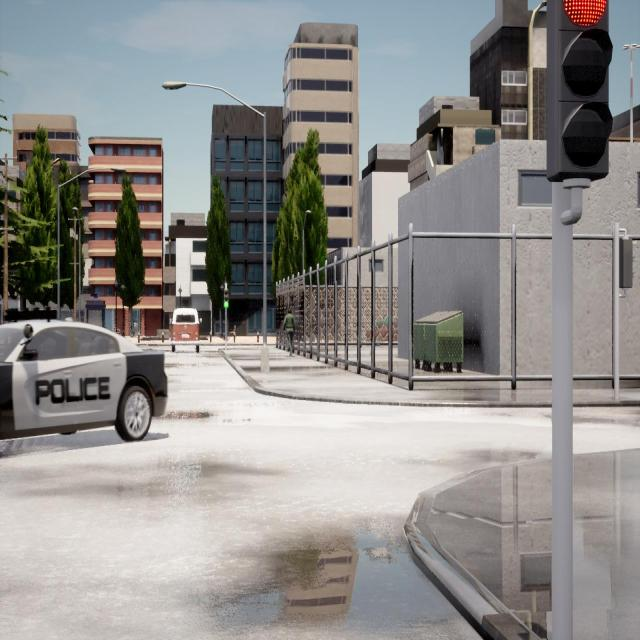Pedestrian: (282, 309, 296, 356)
Vehicle: (1, 320, 168, 440), (171, 308, 200, 354)
traffic_light: (546, 0, 608, 176), (620, 239, 632, 289), (223, 289, 229, 308)
